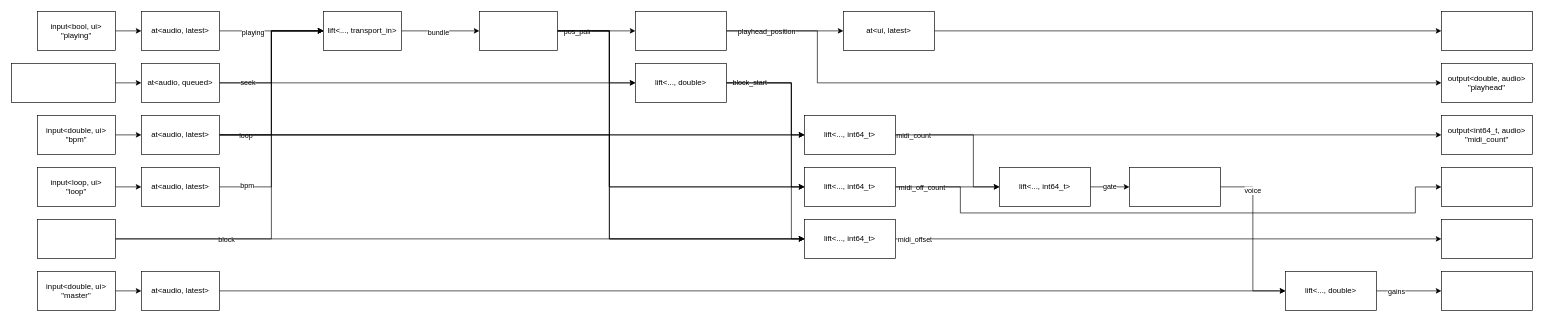
Image size: 1544x322. Some labels were removed from this diagram. The box of each missing label's shape, as (x1, y1, x2, y2) in pixels:
hold<pos_pair> {0.0, 0.0}: (479, 11, 557, 50)
hold<voice> { false, -1 }: (1129, 167, 1220, 206)
input<block, audio> "block": (37, 219, 115, 258)
input<opt<double>, ui> "seek": (11, 63, 115, 102)
lift<pos_pair, double>: (635, 11, 726, 50)
output<double, audio> "voice_gain": (1441, 271, 1532, 310)
output<double, ui> "playhead_ui": (1441, 11, 1532, 50)
output<int64_t, audio> "midi_off_count": (1441, 167, 1532, 206)
output<int64_t, audio> "midi_offset": (1441, 219, 1532, 258)
